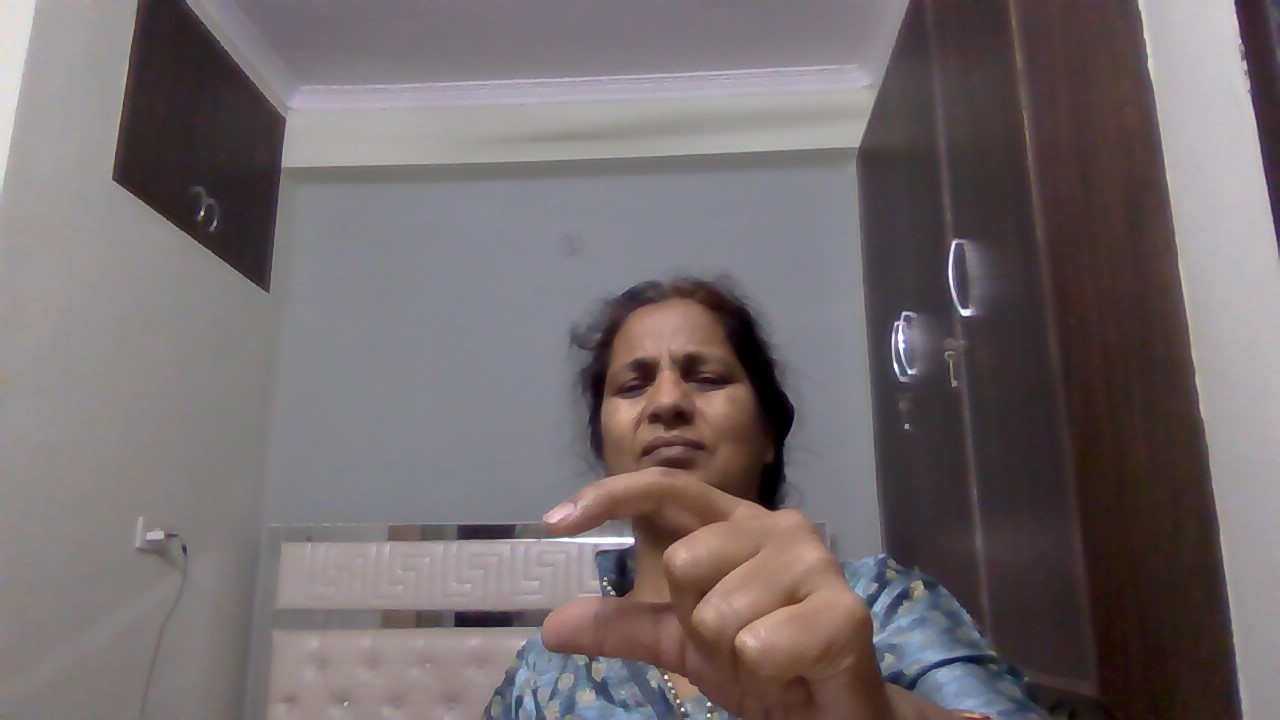Paste: (529, 453, 908, 720)
